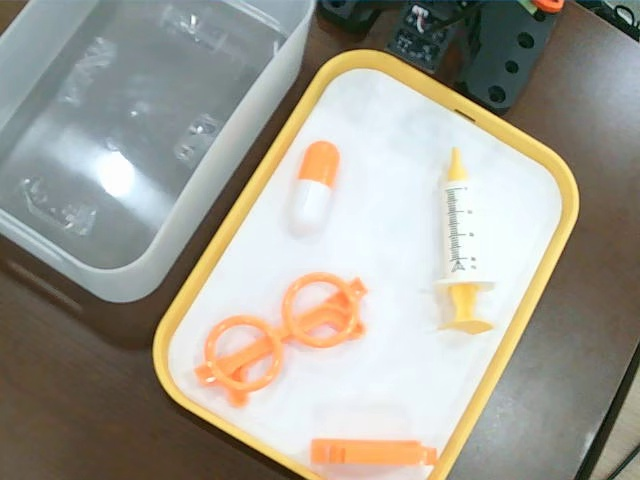pill: (279, 137, 344, 230)
syringe: (437, 142, 495, 341)
